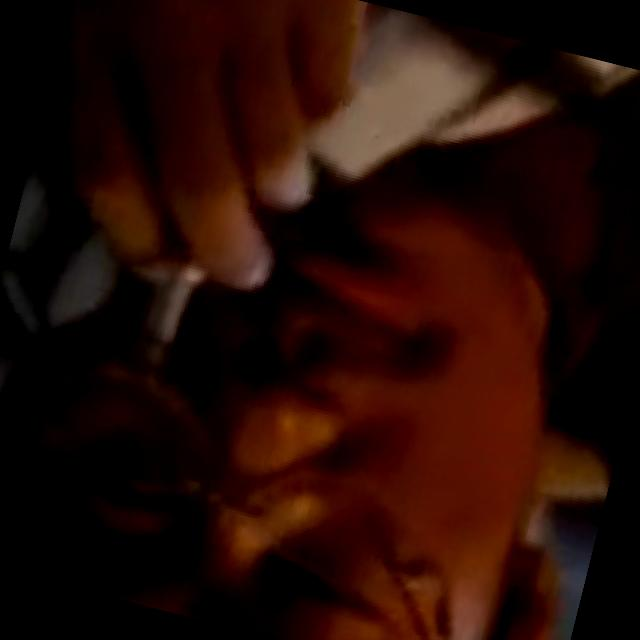smoke: (110, 217, 222, 388)
